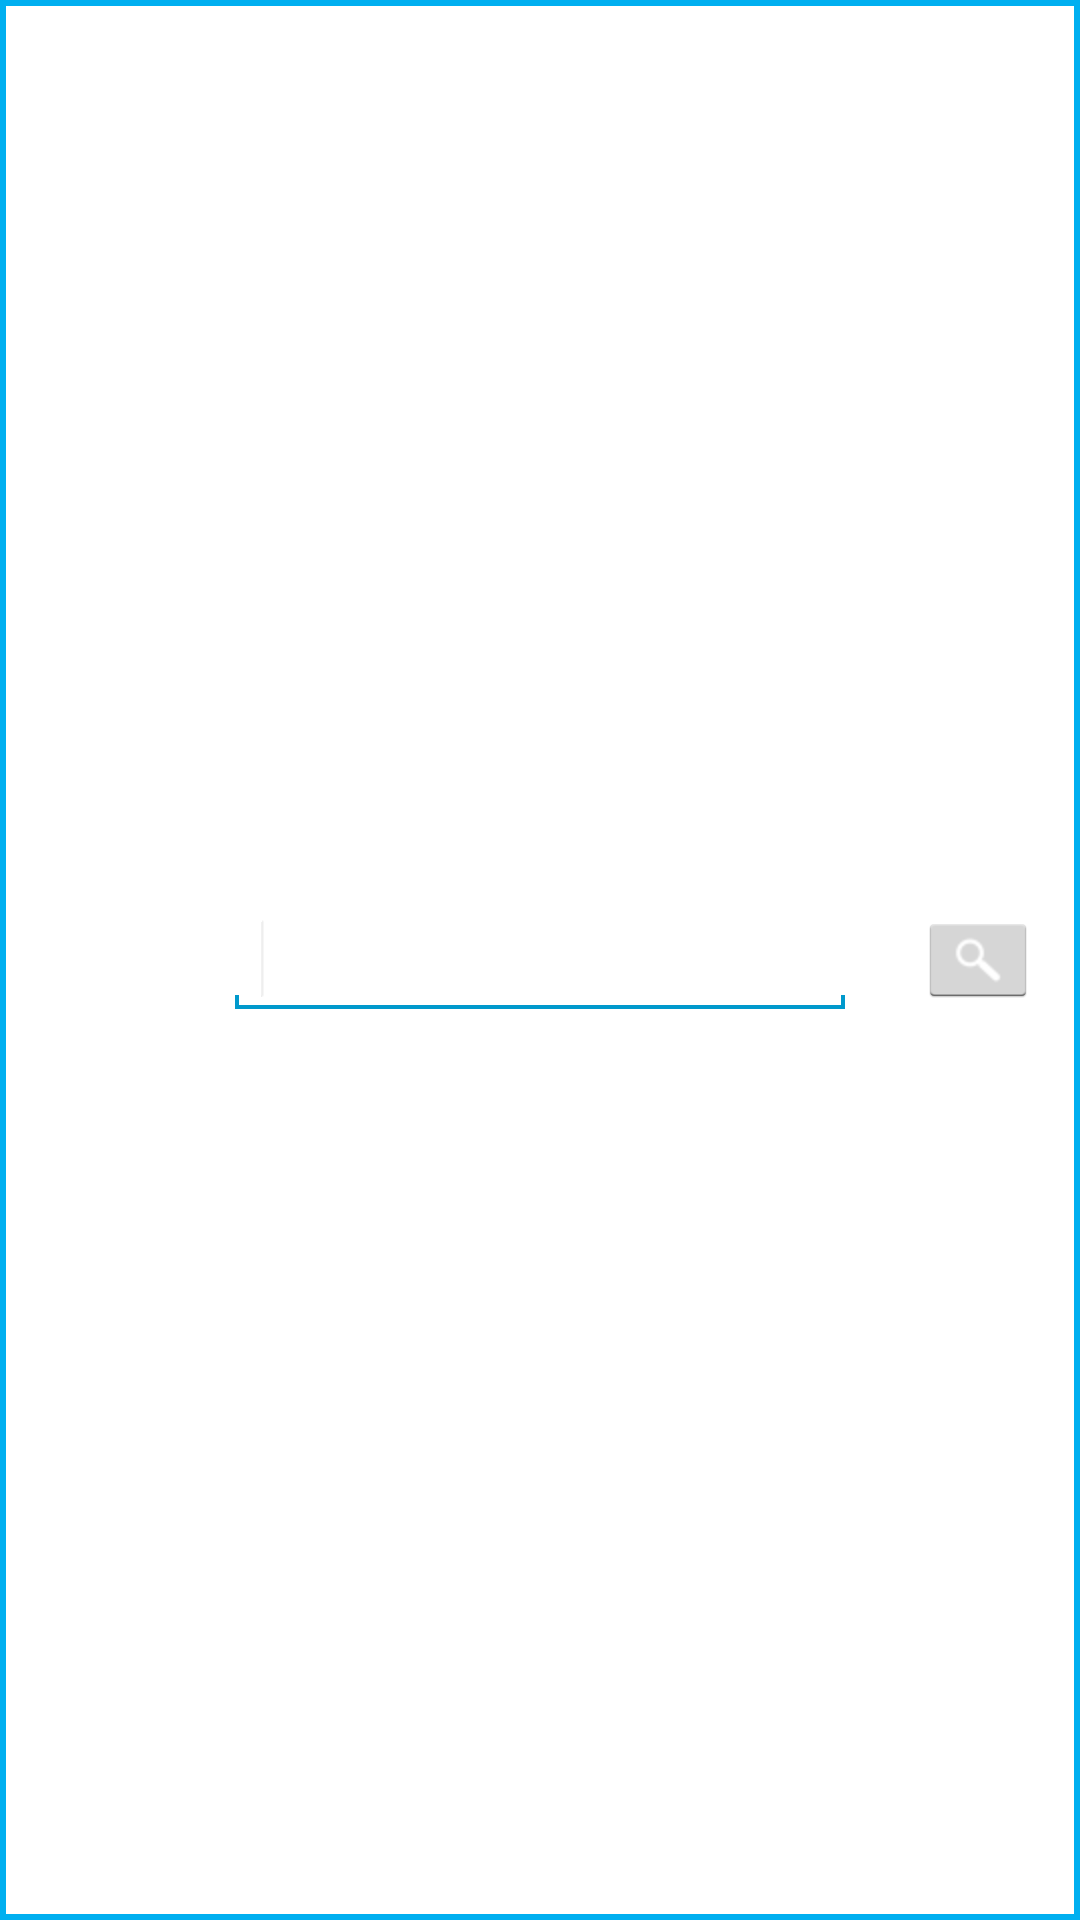

Screen size 1080 × 1920. Icon name, then its center in pixels as [x,y]:
search: [978,961]
